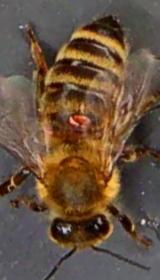varroa_mite: (62, 103, 94, 134)
